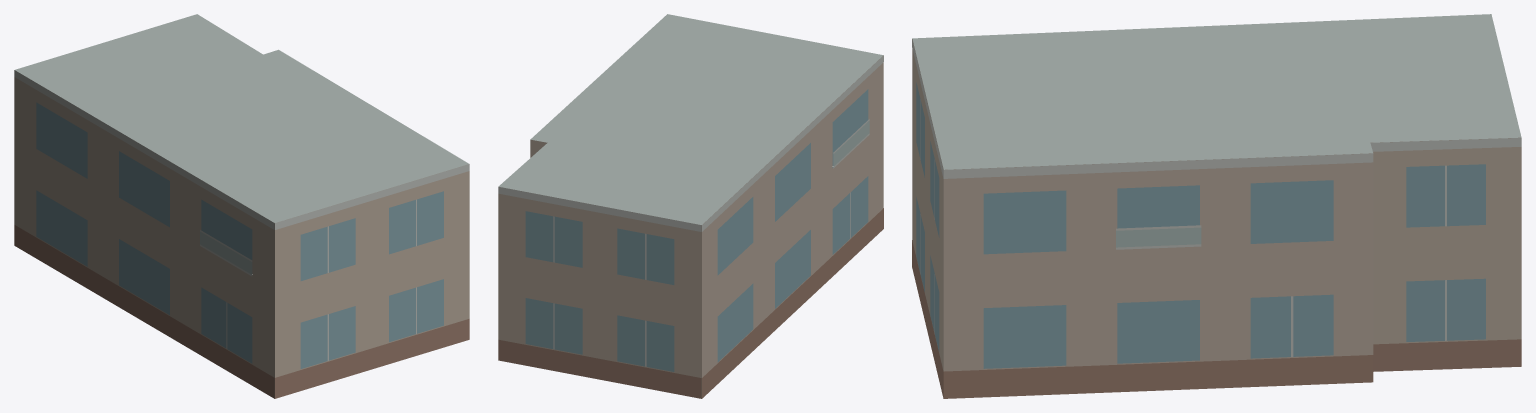
File: survey-upis-32670360.glb
3 views of the same model, side by side, from view 1: azimuth 30°, elevation 25°; view 2: azimuth 150°, elevation 25°; view 3: azimuth 270°, elevation 25° (orthographic). The views are drawn at different scales.
Parts seen in each view (by area): view 1: survey-upis-32670360.tmp; view 2: survey-upis-32670360.tmp; view 3: survey-upis-32670360.tmp.
Part boxes in pixels (<box>): survey-upis-32670360.tmp: <box>14,14,469,398</box>; survey-upis-32670360.tmp: <box>498,14,883,398</box>; survey-upis-32670360.tmp: <box>912,14,1521,398</box>.
Size of the model in its own units: 8.91 by 6.1 by 14.72.
